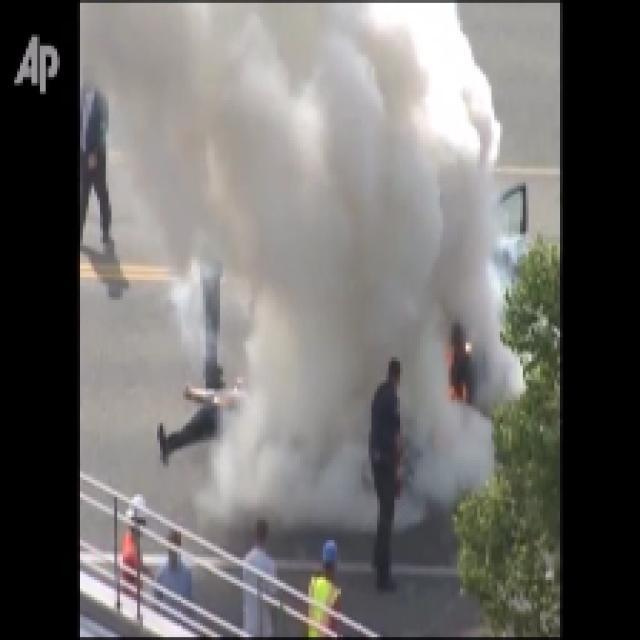Smoke: (263, 134, 460, 323)
